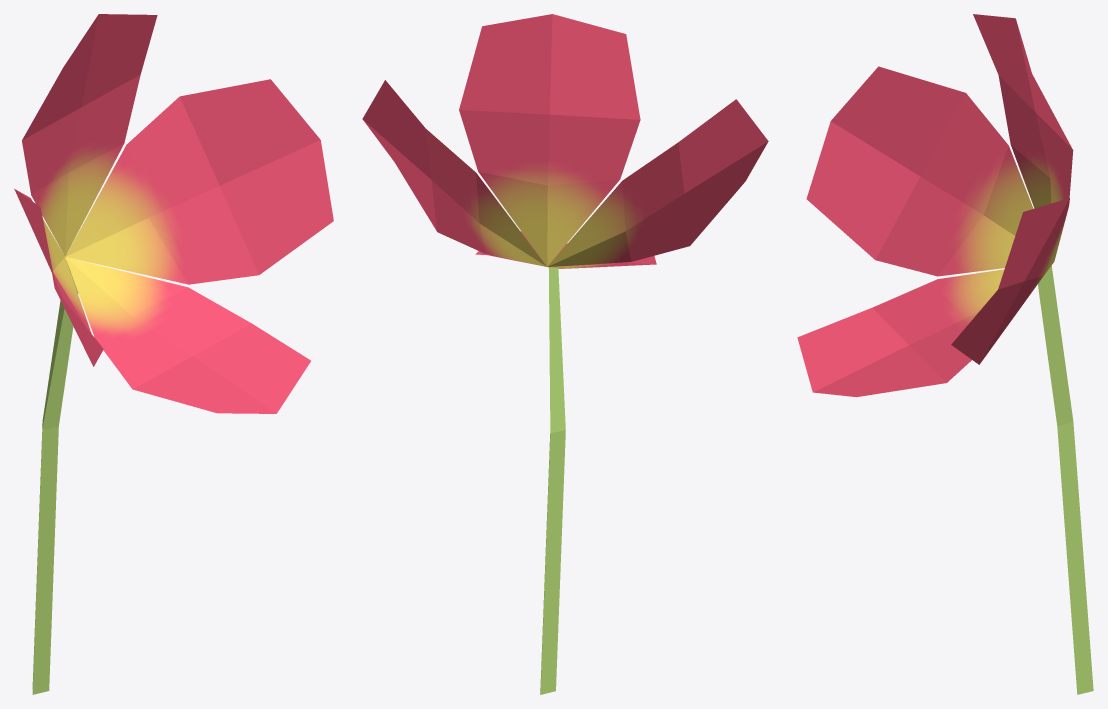
File: Flower_c_OneS_01.fbx
3 views of the same model, side by side, from view 1: azimuth 30°, elevation 25°; view 2: azimuth 150°, elevation 25°; view 3: azimuth 270°, elevation 25° (orthographic). The views are drawn at different scales.
Parts seen in each view (by area): view 1: Flower_c_OneS_01; view 2: Flower_c_OneS_01; view 3: Flower_c_OneS_01.
Boxes of the visible parts, x1=… form: Flower_c_OneS_01: x1=14, y1=14, x2=333, y2=694; Flower_c_OneS_01: x1=362, y1=14, x2=768, y2=694; Flower_c_OneS_01: x1=797, y1=14, x2=1093, y2=694.
Bounding box in the file's own units: 0.2565 × 0.4854 × 0.1902.
